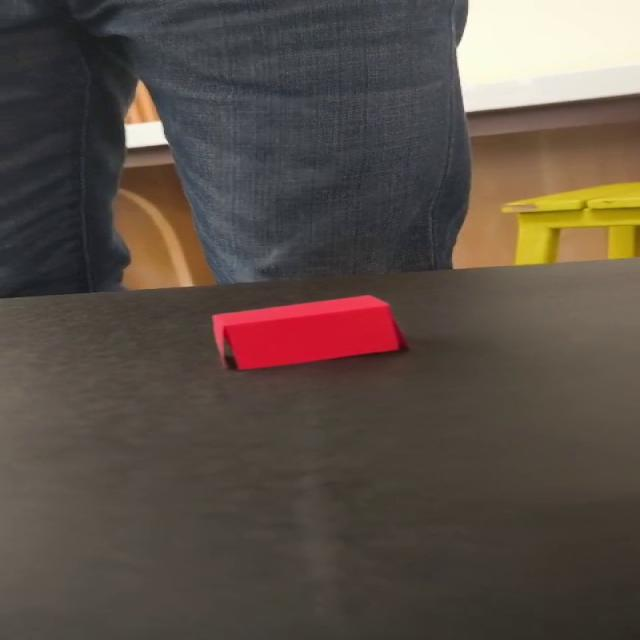red block: (209, 293, 407, 371)
